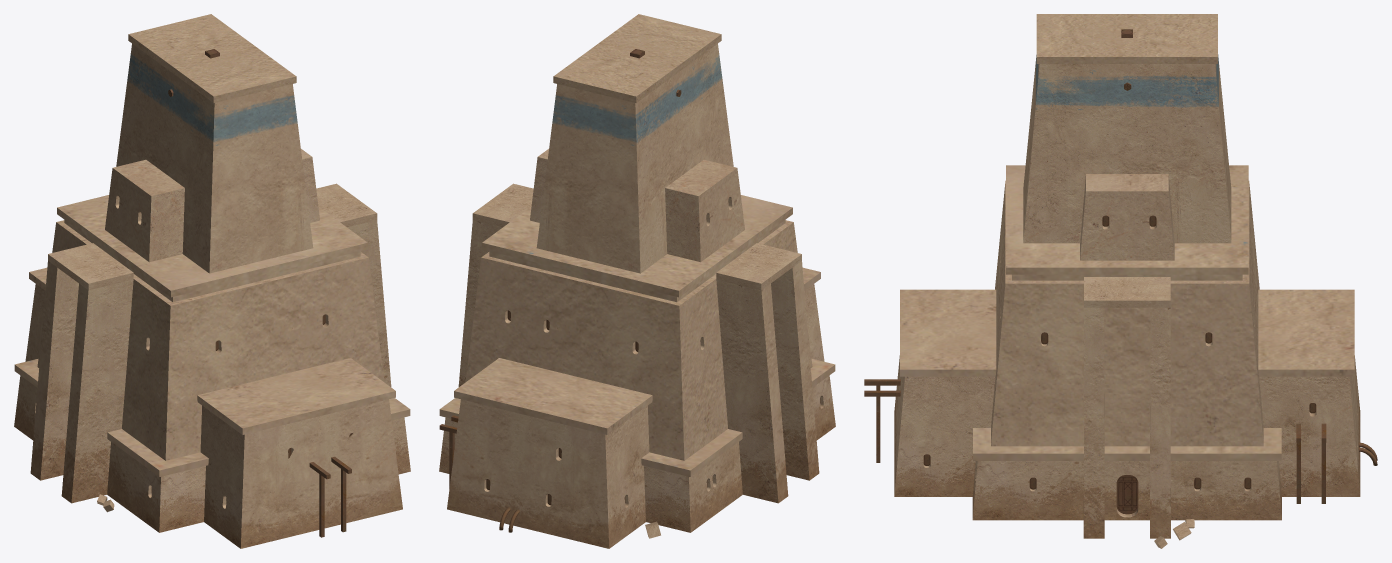
Rendered from Edificio 7.fbx.
3 views of the same model, side by side, from view 1: azimuth 30°, elevation 25°; view 2: azimuth 150°, elevation 25°; view 3: azimuth 270°, elevation 25° (orthographic). The views are drawn at different scales.
Visible parts, largest first — view 1: building30; view 2: building30; view 3: building30.
Part boxes in pixels (x1,y1,x2,y2): building30: (14,14,410,548); building30: (439,14,835,548); building30: (864,14,1377,548).
Size of the model in its own units: 2114 by 2453 by 2636.
